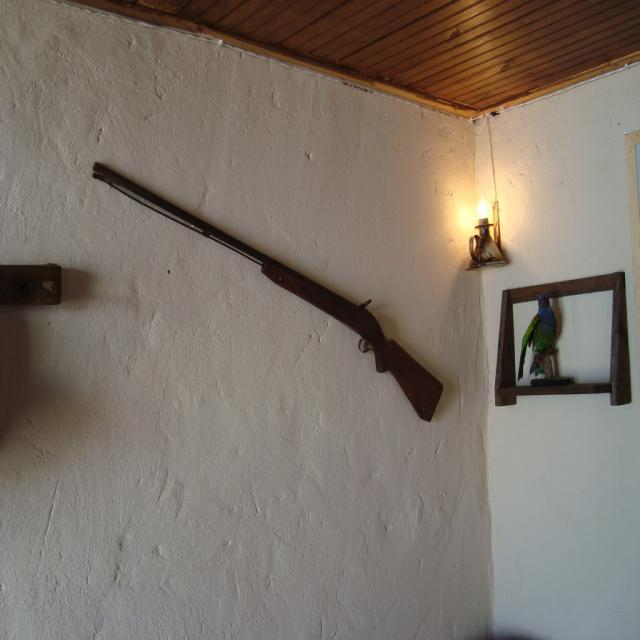weapon: (92, 161, 446, 423)
